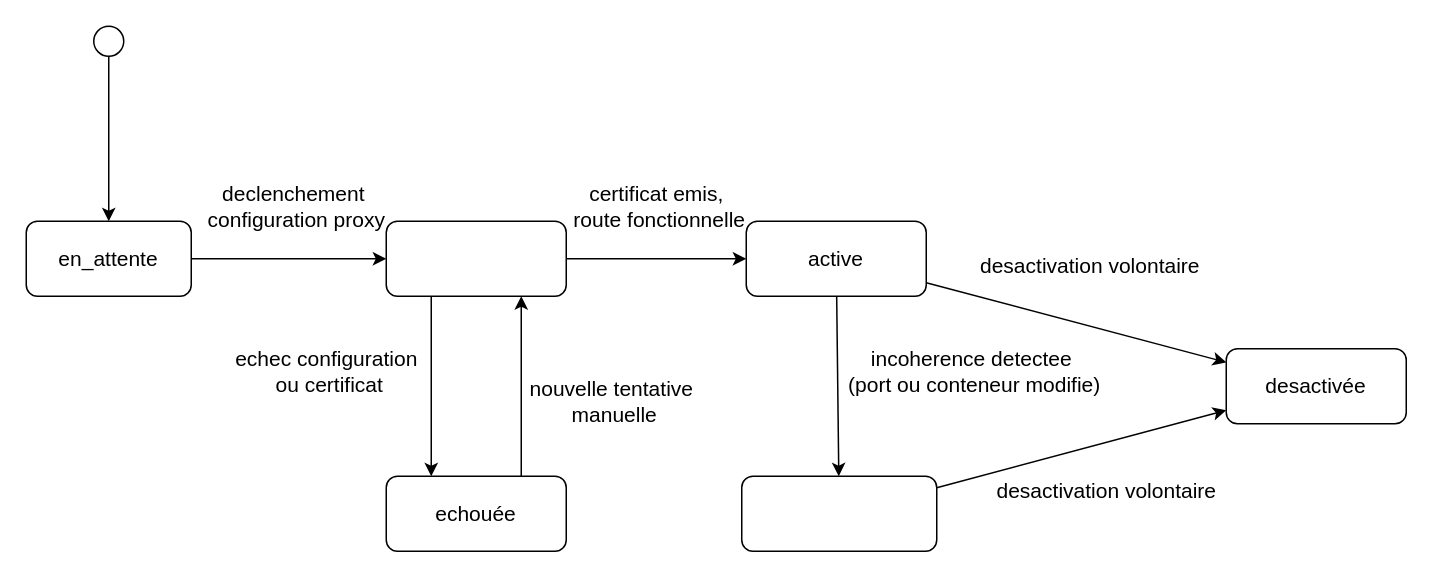
This 1433x578 diagram has some shape labels left out. The box of each missing label's shape, as (x1, y1, x2, y2) in pixels:
desynchronisée: (740, 475, 937, 551)
en_cours: (385, 220, 566, 296)
